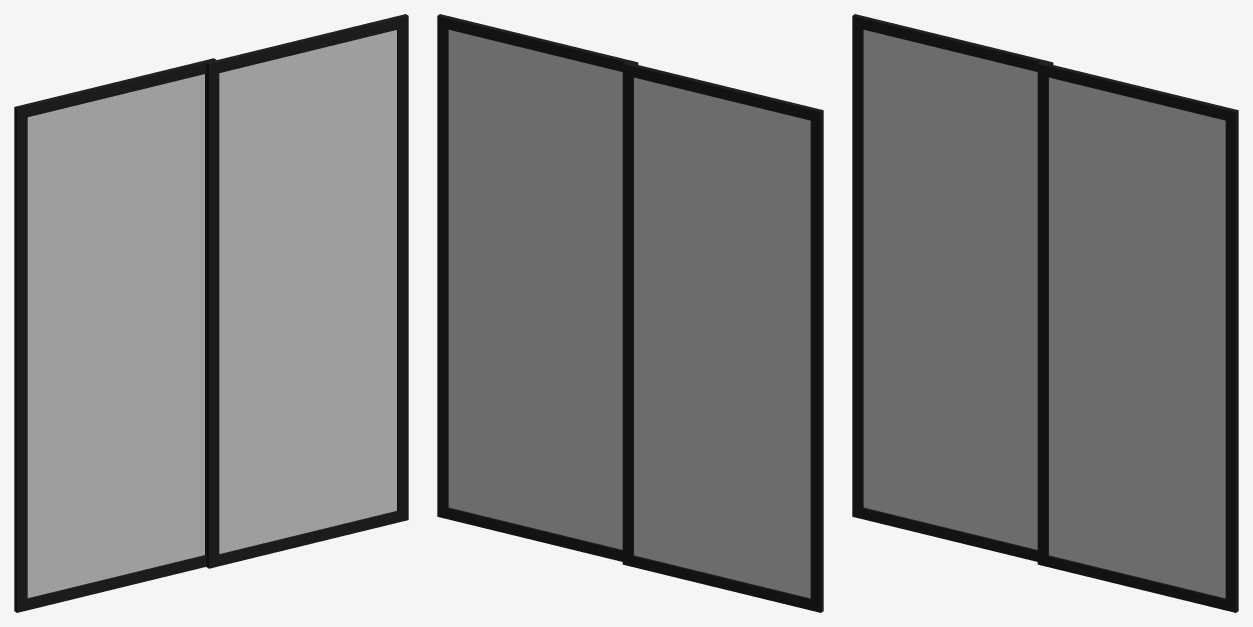
Rendered from SM_SlidingWindow_5.fbx.
3 views of the same model, side by side, from view 1: azimuth 30°, elevation 25°; view 2: azimuth 150°, elevation 25°; view 3: azimuth 330°, elevation 25° (orthographic).
Visible parts, largest first — view 1: SM_SlidingWindow_5.001, SM_SlidingWindow_5; view 2: SM_SlidingWindow_5, SM_SlidingWindow_5.001; view 3: SM_SlidingWindow_5.001, SM_SlidingWindow_5.
Part boxes in pixels (x1=…): SM_SlidingWindow_5.001: x1=206, y1=14, x2=408, y2=568; SM_SlidingWindow_5: x1=14, y1=58, x2=216, y2=612; SM_SlidingWindow_5: x1=622, y1=62, x2=823, y2=612; SM_SlidingWindow_5.001: x1=437, y1=14, x2=638, y2=561; SM_SlidingWindow_5.001: x1=1037, y1=62, x2=1238, y2=612; SM_SlidingWindow_5: x1=852, y1=14, x2=1053, y2=561.
Bounding box in the file's own units: 1.66 × 2.06 × 0.04.
Materials: 2 (1 with a texture image).
